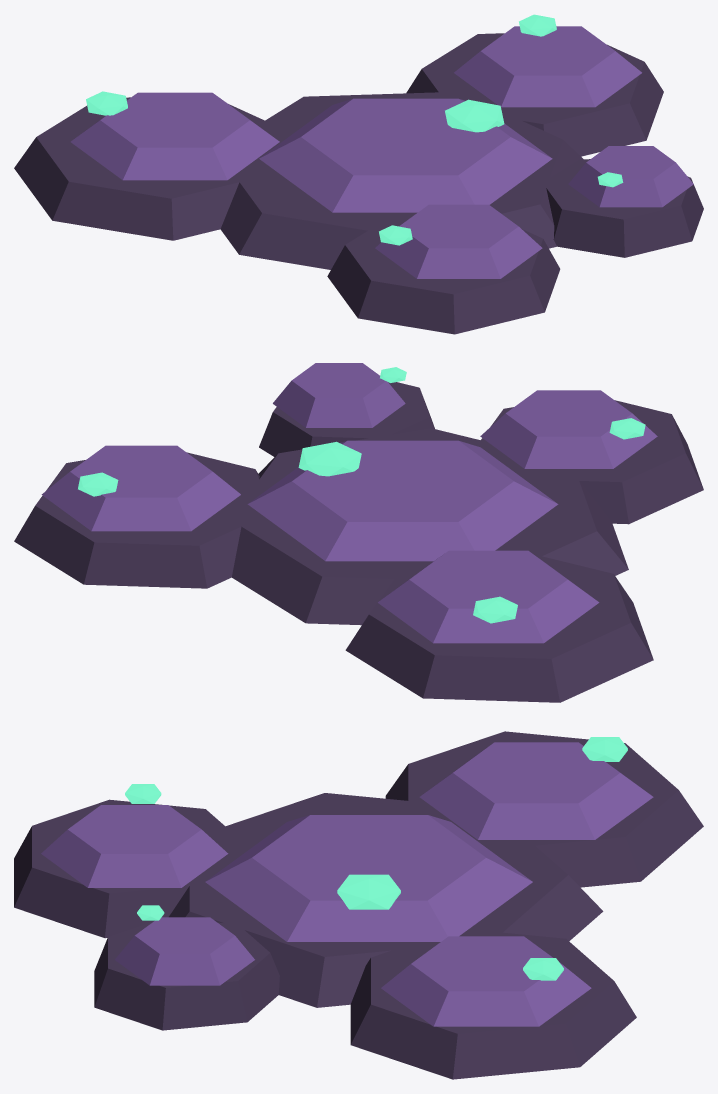
File: exo-flora-lichen.glb
The picture shows the model from 3 angles, top to bottom: view 1: azimuth 30°, elevation 25°; view 2: azimuth 150°, elevation 25°; view 3: azimuth 270°, elevation 25°; orthographic projection. The views are drawn at different scales.
Visible parts, largest first — view 1: body; view 2: body; view 3: body.
Part boxes in pixels (x1,y1,x2,y2): body: (14, 14, 703, 334); body: (14, 363, 703, 702); body: (14, 731, 703, 1079).
Size of the model in its own units: 2.28 by 0.2548 by 2.06.
